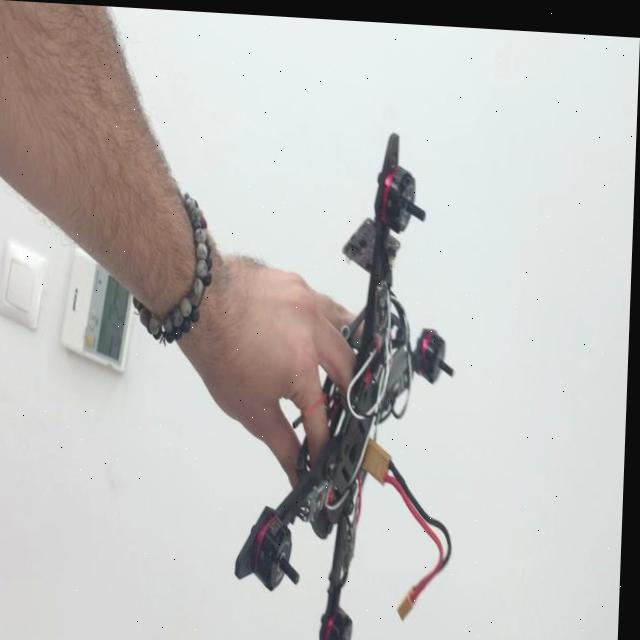drone: (227, 119, 481, 640)
